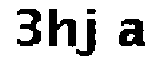3: (11, 7, 42, 50)
a: (114, 15, 151, 51)
h: (45, 5, 82, 50)
j: (78, 2, 105, 60)
